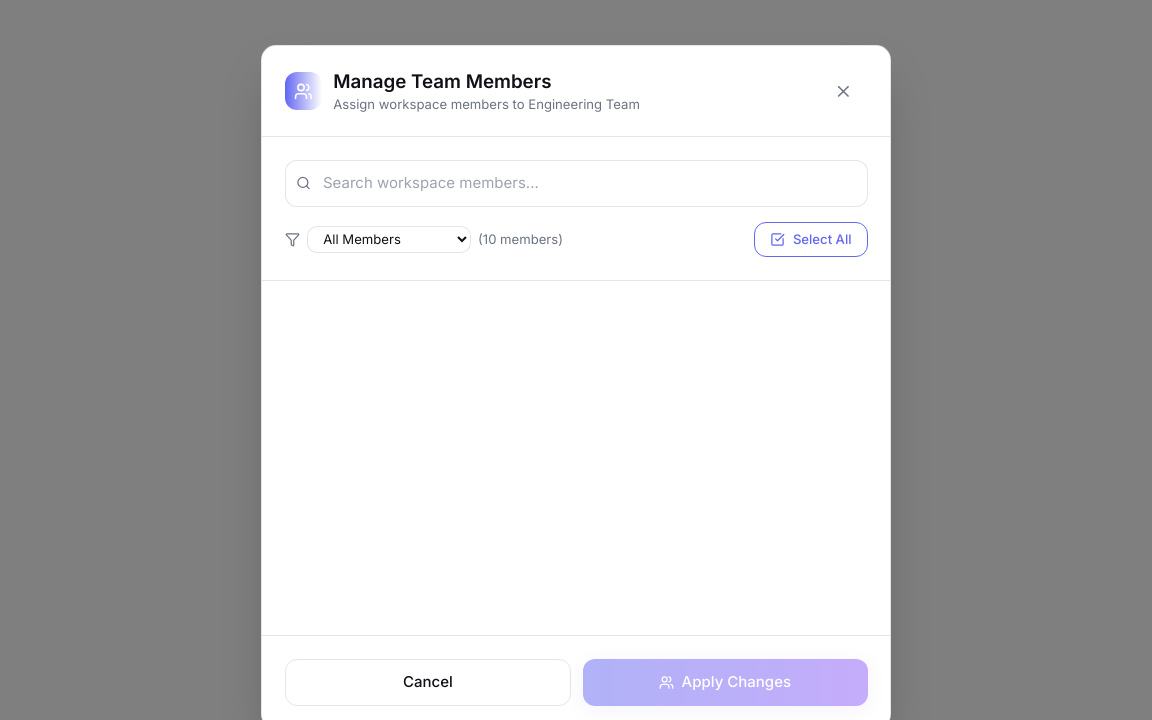
TeamMemberAssignmentModal › shows bulk operation confirmation for large changes
Click the button "Select All": click(811, 239) [754,222,868,257]
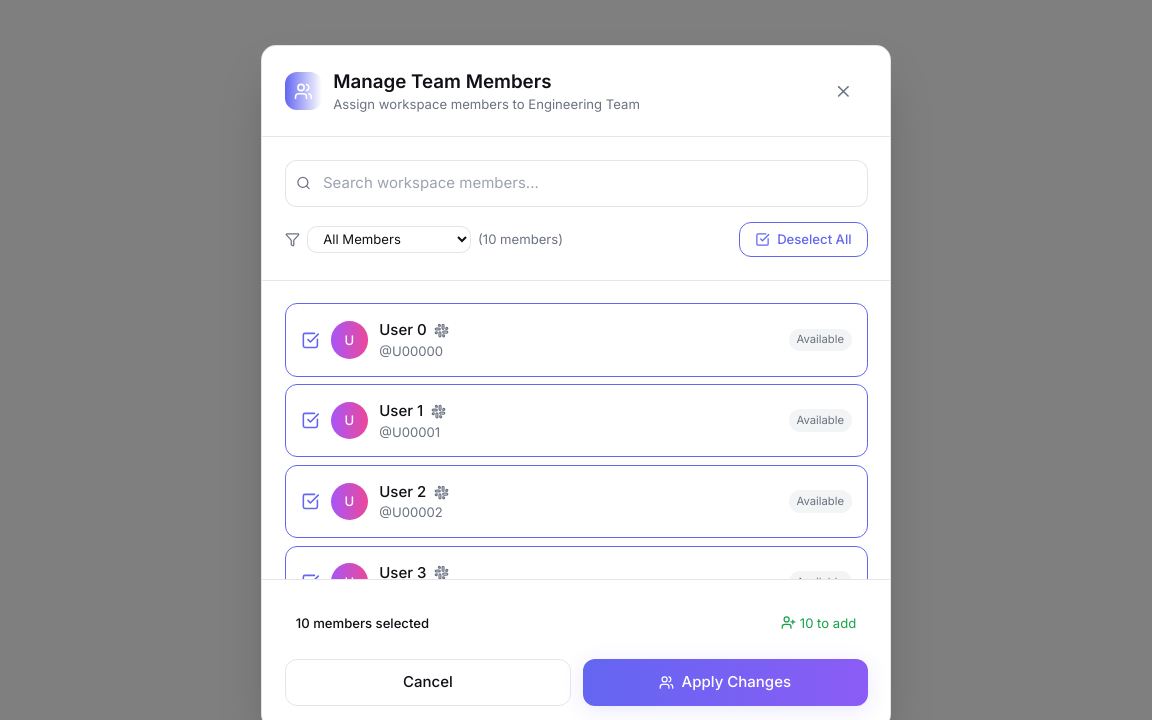
Check: the text "10 members selected" is shown, box [296,614,429,632]
// Click Apply Changes - should show confirmation dialog
Click the button "Apply Changes": click(725, 682) [583,658,868,706]
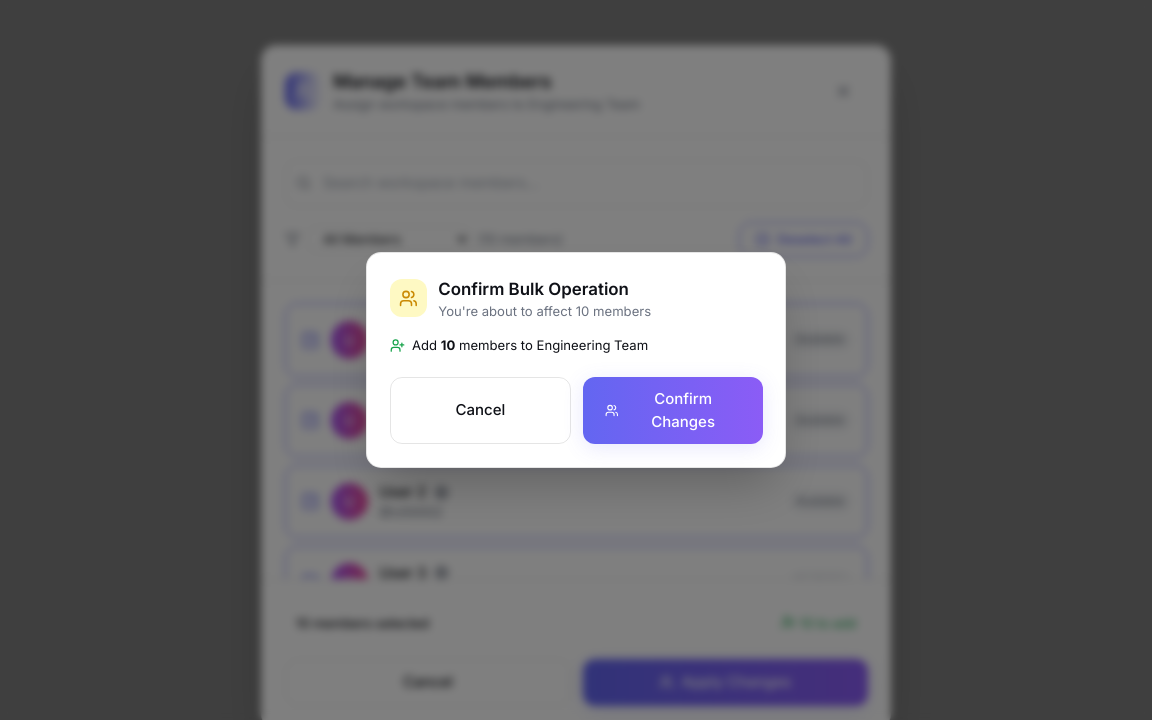
Check: the heading "Confirm Bulk Operation" is shown, box [438,276,651,302]
Check: the text "You're about to affect 10 members" is shown, box [438,302,651,321]
